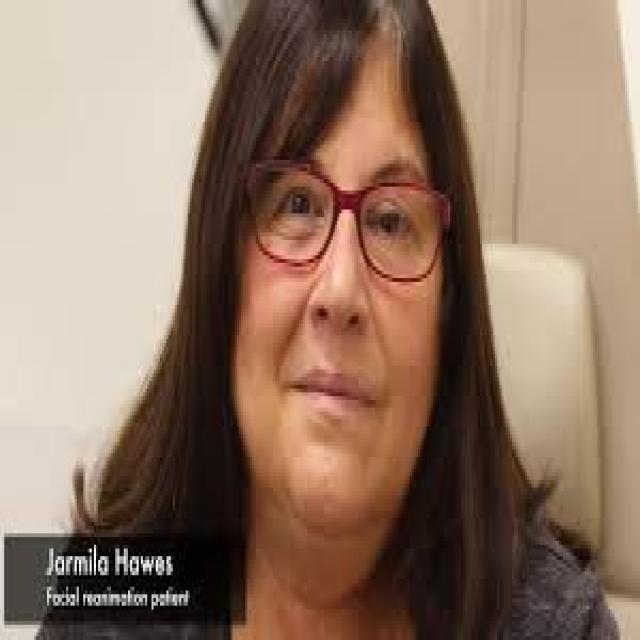stroke_face: (218, 0, 470, 570)
